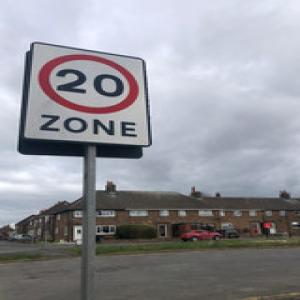speed limit 20: (24, 39, 153, 159)
